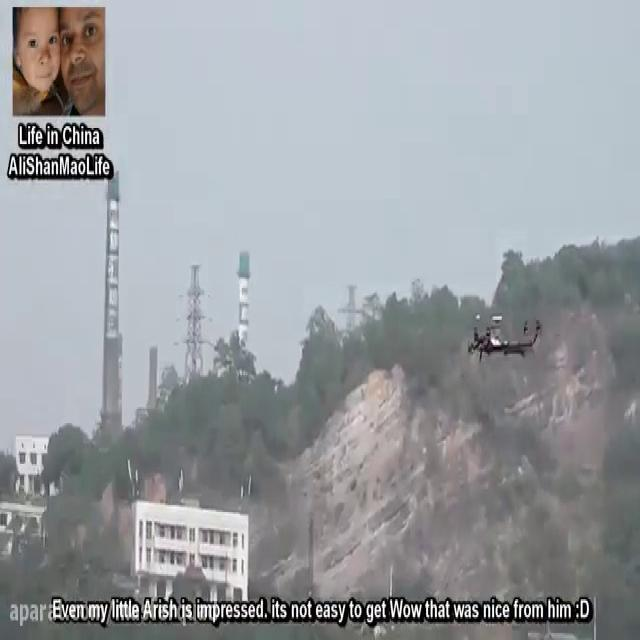drone: (464, 311, 544, 363)
